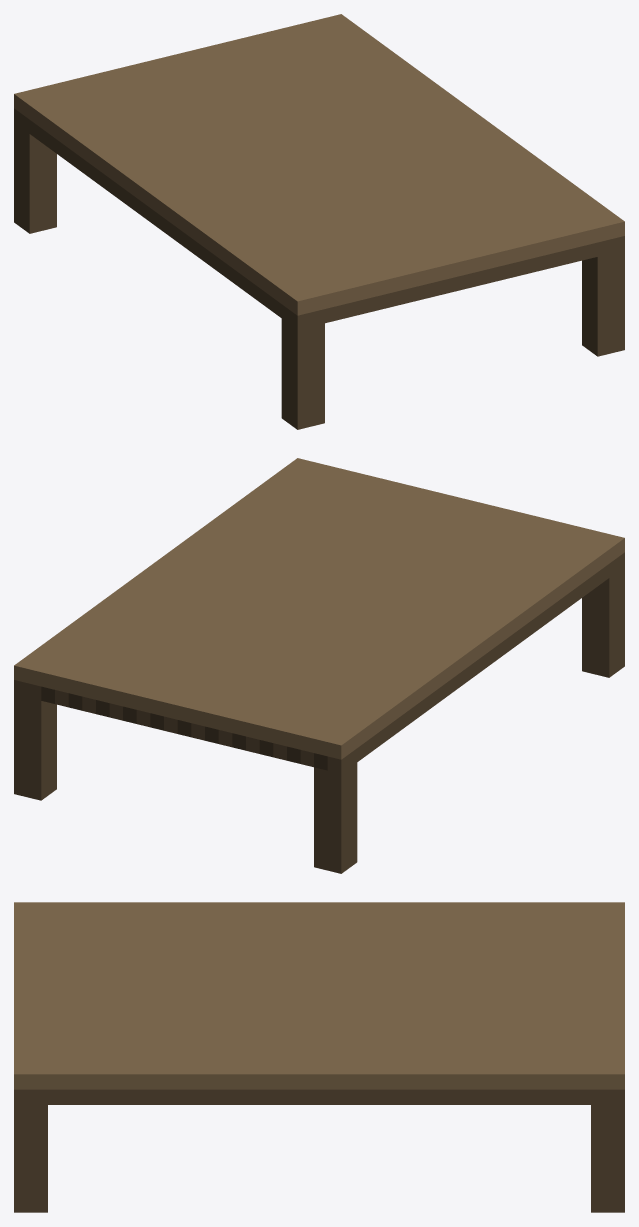
The model's file is mesa_comedor_nogal_tallado_01.glb.
The picture shows the model from 3 angles, top to bottom: view 1: azimuth 30°, elevation 25°; view 2: azimuth 150°, elevation 25°; view 3: azimuth 270°, elevation 25°; orthographic projection. The views are drawn at different scales.
Visible parts, largest first — view 1: mesa_comedor_nogal_tallado; view 2: mesa_comedor_nogal_tallado; view 3: mesa_comedor_nogal_tallado.
Part boxes in pixels (<box>): mesa_comedor_nogal_tallado: <box>14,14,624,429</box>; mesa_comedor_nogal_tallado: <box>14,458,624,873</box>; mesa_comedor_nogal_tallado: <box>14,902,624,1212</box>.
Bounding box in the file's own units: 2 × 0.75 × 3.
